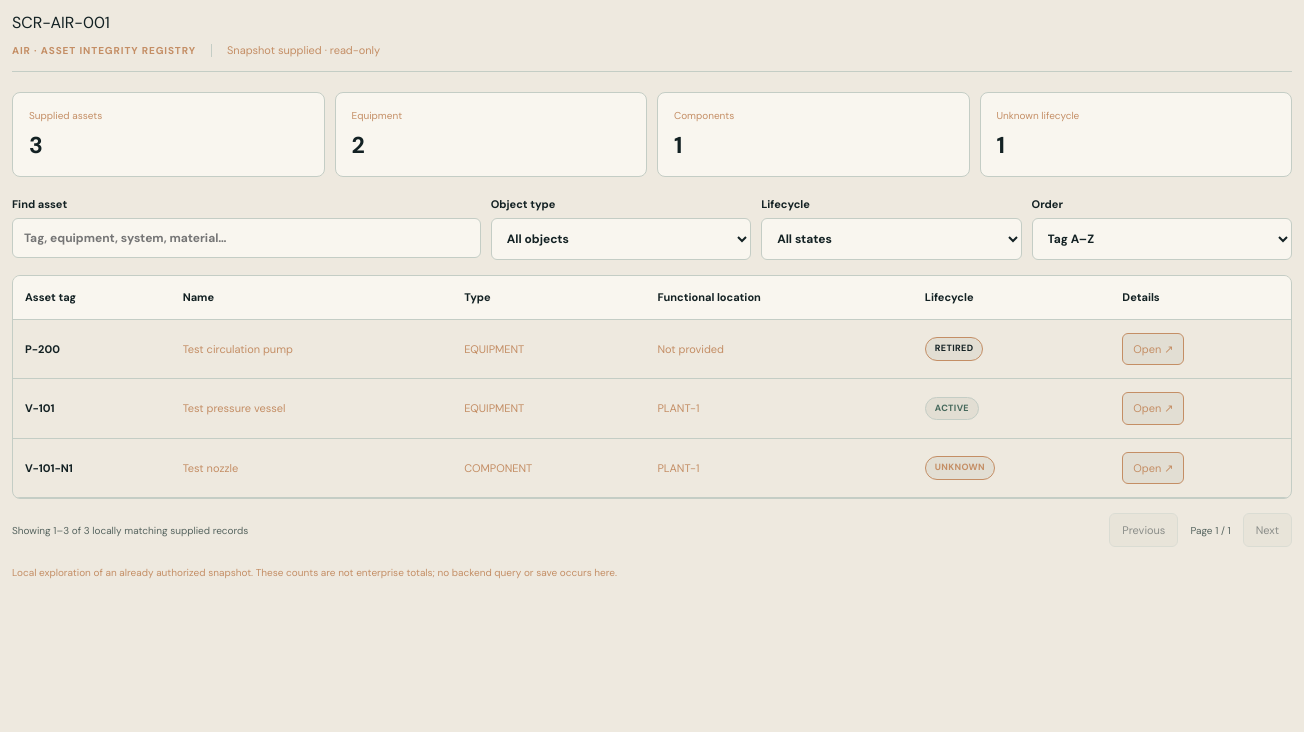
Test: future AIR frontend presentation boundary › opens a selected asset and its source-backed history
Step 1. Click the button with aria-label "Open V-101 workspace" → (1153, 408), box 1122,392 -> 1184,424
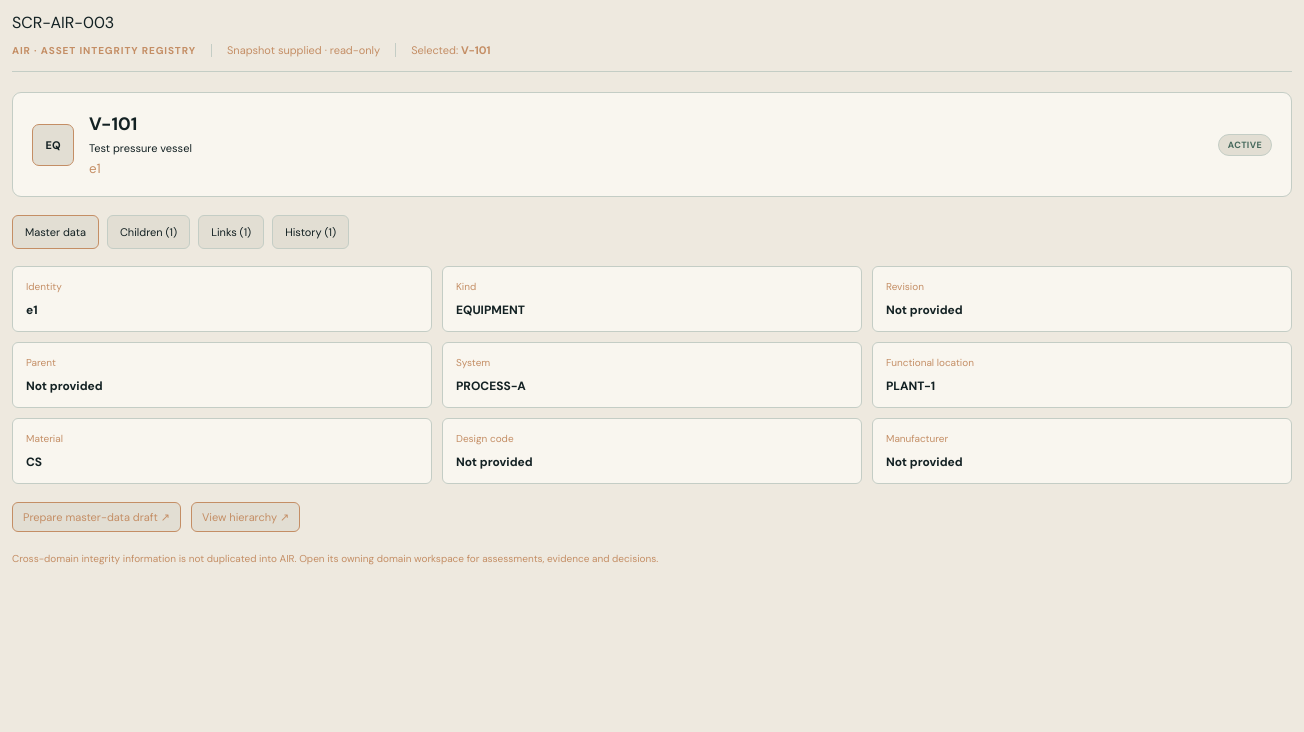
Result: the text with test id "screen-id" reads "SCR-AIR-003" at 12,12 -> 114,33
Result: the text "CS" is shown at 26,454 -> 42,470
Step 2. Click the tab "History (1)" → (311, 232), box 272,215 -> 349,249
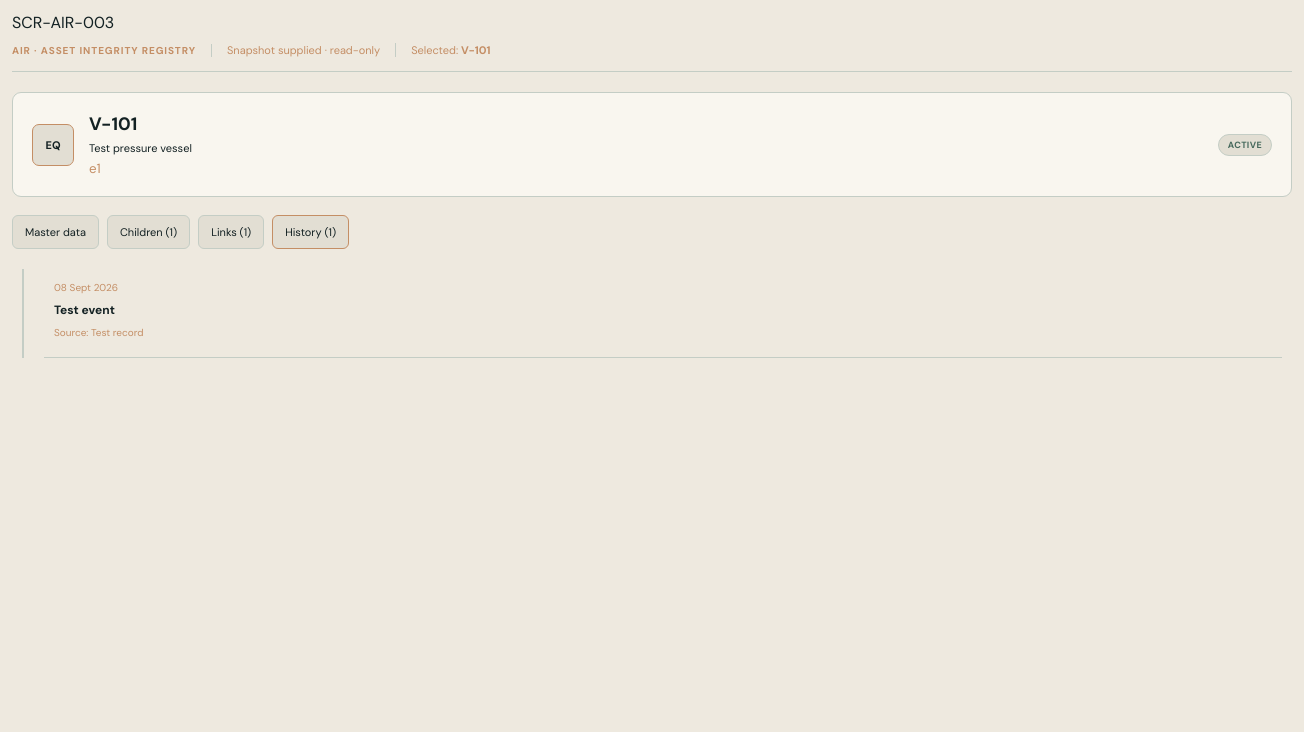
Result: the text "Test event" is shown at 54,302 -> 115,318
Result: the text "Source: Test record" is shown at 54,326 -> 144,339
